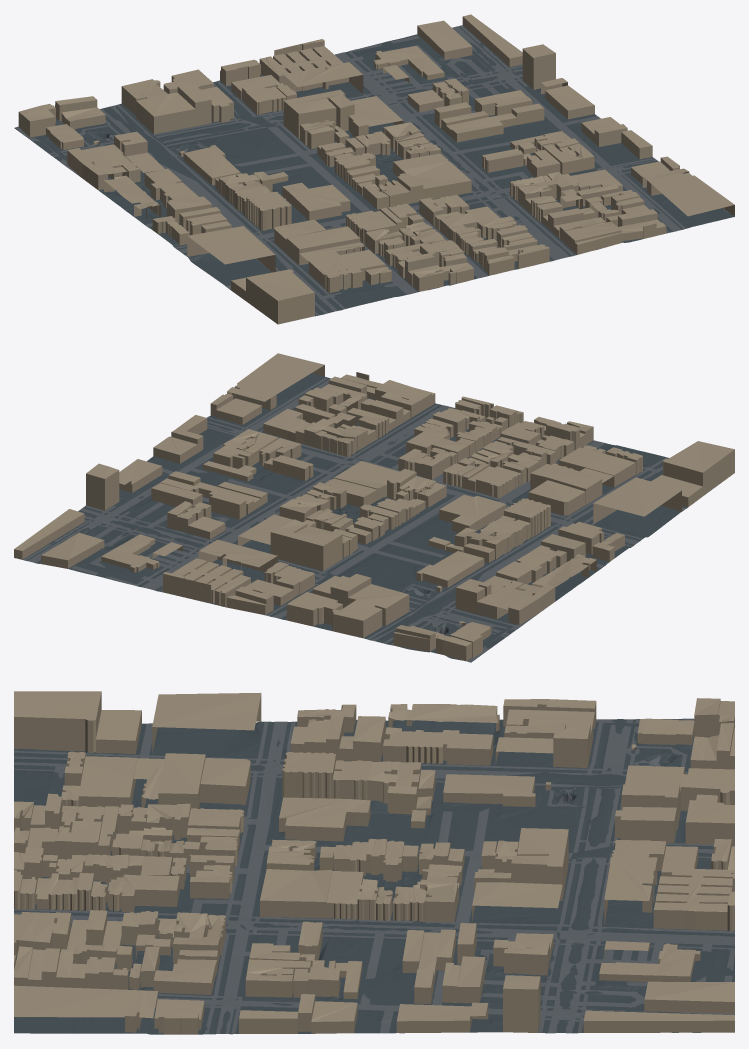
File: epsg26910-1435-10885.lod0.glb
The picture shows the model from 3 angles, top to bottom: view 1: azimuth 30°, elevation 25°; view 2: azimuth 150°, elevation 25°; view 3: azimuth 270°, elevation 25°; orthographic projection. The views are drawn at different scales.
Parts seen in each view (by area): view 1: epsg26910-1435-10885-lod0; view 2: epsg26910-1435-10885-lod0; view 3: epsg26910-1435-10885-lod0.
Boxes of the visible parts, box(x1,y1,x2,y2) form: epsg26910-1435-10885-lod0: box(14, 14, 734, 324); epsg26910-1435-10885-lod0: box(14, 353, 734, 662); epsg26910-1435-10885-lod0: box(14, 691, 734, 1034).
Size of the model in its own units: 384 by 28.11 by 384.
